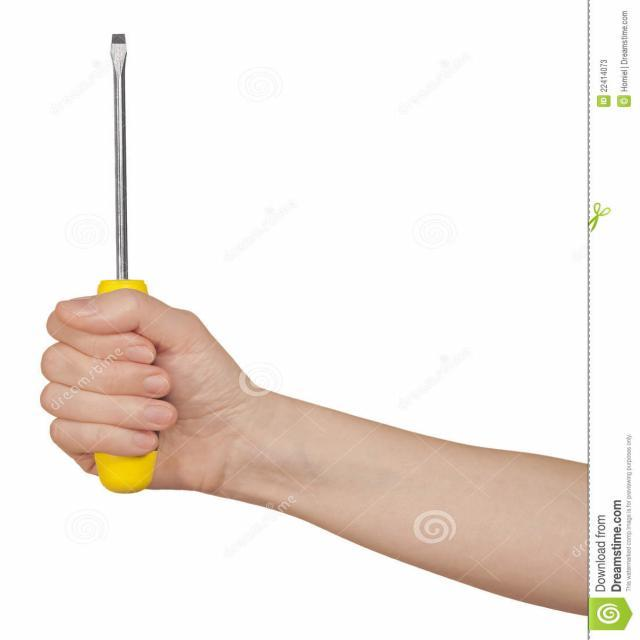screwdriver: (81, 30, 166, 500)
